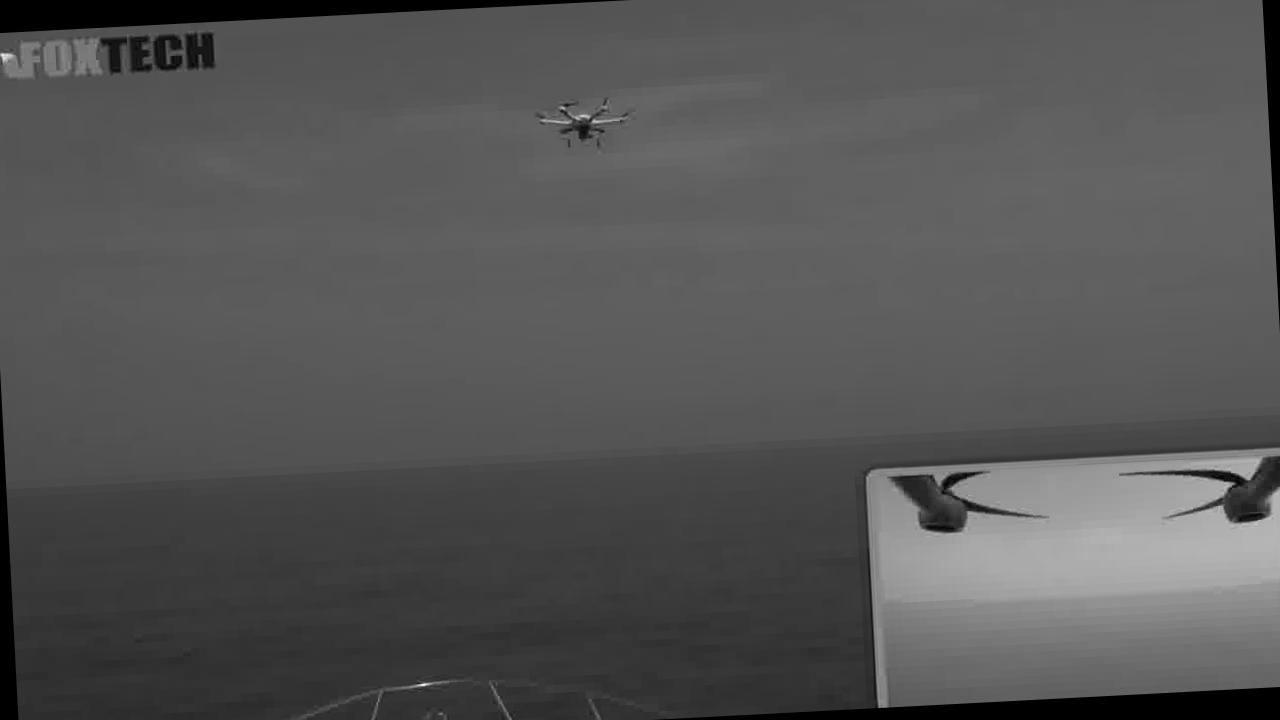drone: (510, 92, 640, 160)
